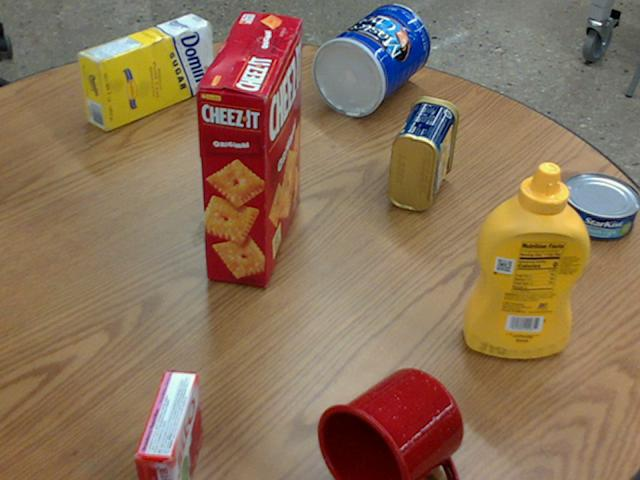cracker_box: (196, 11, 303, 286)
gelatin_box: (128, 371, 198, 479)
master_chef_can: (311, 3, 428, 115)
mug: (314, 369, 462, 479)
mustard_bottle: (462, 162, 588, 357)
potted_meat_can: (388, 95, 457, 209)
sugar_box: (77, 12, 213, 129)
tuna_fish_can: (555, 172, 637, 240)
